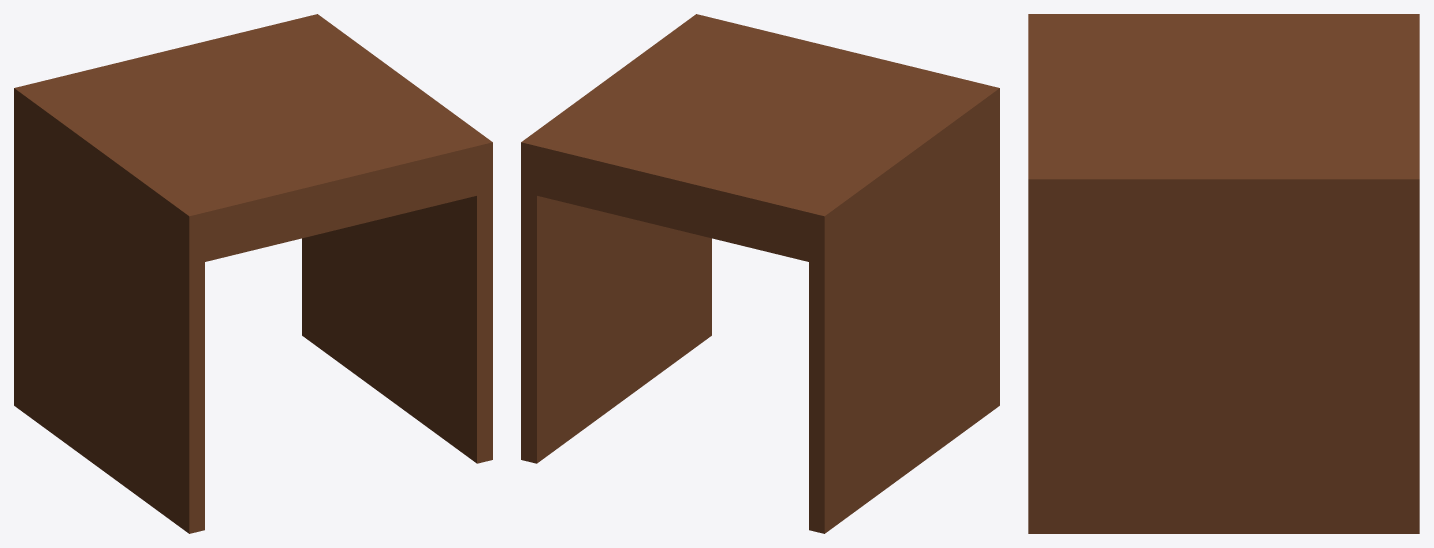
Rendered from kleinerTisch.fbx.
The picture shows the model from 3 angles, left to right: view 1: azimuth 30°, elevation 25°; view 2: azimuth 150°, elevation 25°; view 3: azimuth 270°, elevation 25°; orthographic projection. The views are drawn at different scales.
Parts seen in each view (by area): view 1: Cube.001; view 2: Cube.001; view 3: Cube.001.
Boxes of the visible parts, left/top/right/bottom form: Cube.001: left=14, top=14, right=492, bottom=533; Cube.001: left=521, top=14, right=999, bottom=533; Cube.001: left=1028, top=14, right=1419, bottom=533.
Size of the model in its own units: 100 by 100 by 100.
